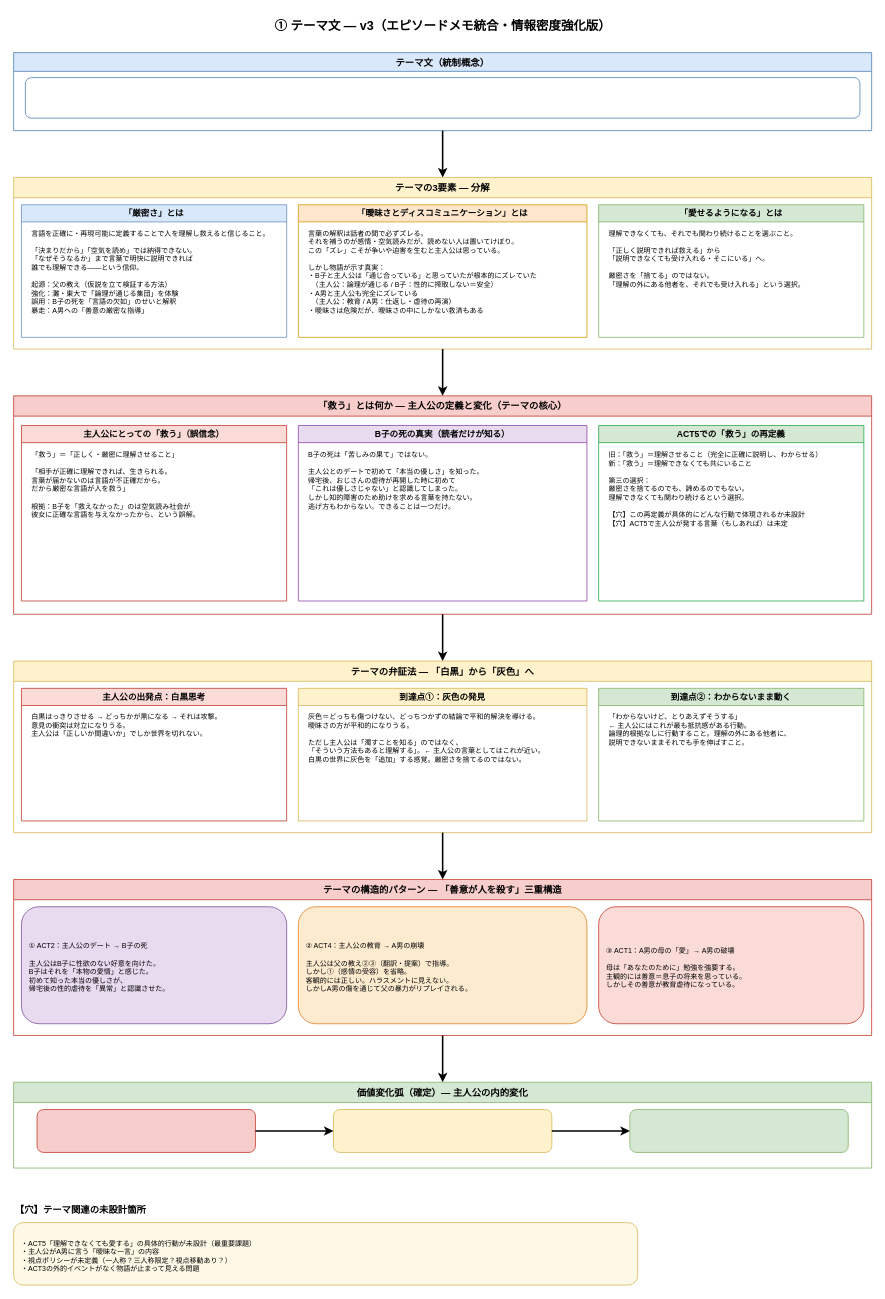
The diagram is 885 pixels wide and 1299 high, and some of its shapes have lost their labels. The shapes that lost their labels are listed below. From the top down, each one's centre as x and y in pixels, then its label:
(x=442, y=97): 「厳密に定義された言葉」こそが人を救うと考えた主人公が、 曖昧さとディスコミュニケーションだらけの人間社会を、愛せるようになる話
(x=145, y=1130): 理解すれば救える （ACT1-3）
(x=442, y=1130): 理解しても救えない （ACT4：A男崩壊）
(x=738, y=1130): 理解できなくても寄り添える （ACT5：第三の選択）
